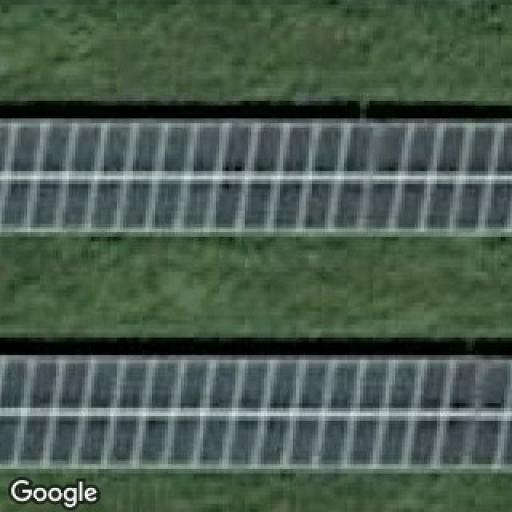solar-panel: (0, 117, 512, 238), (0, 356, 512, 470)
